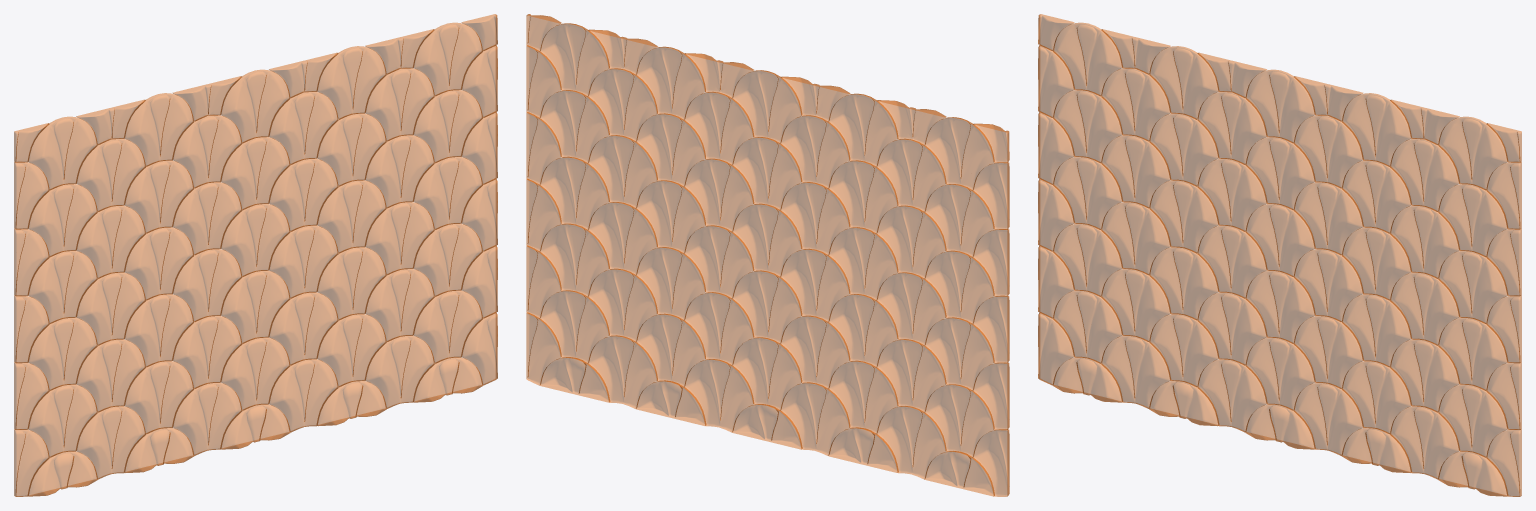
The model's file is stoneslab2.glb.
The picture shows the model from 3 angles, left to right: view 1: azimuth 30°, elevation 25°; view 2: azimuth 150°, elevation 25°; view 3: azimuth 330°, elevation 25°; orthographic projection.
Parts seen in each view (by area): view 1: stoneslab; view 2: stoneslab; view 3: stoneslab.
Part boxes in pixels (x1=…): stoneslab: x1=14, y1=14, x2=497, y2=496; stoneslab: x1=526, y1=14, x2=1009, y2=496; stoneslab: x1=1038, y1=14, x2=1521, y2=496.
Size of the model in its own units: 278 by 204 by 5.89.
